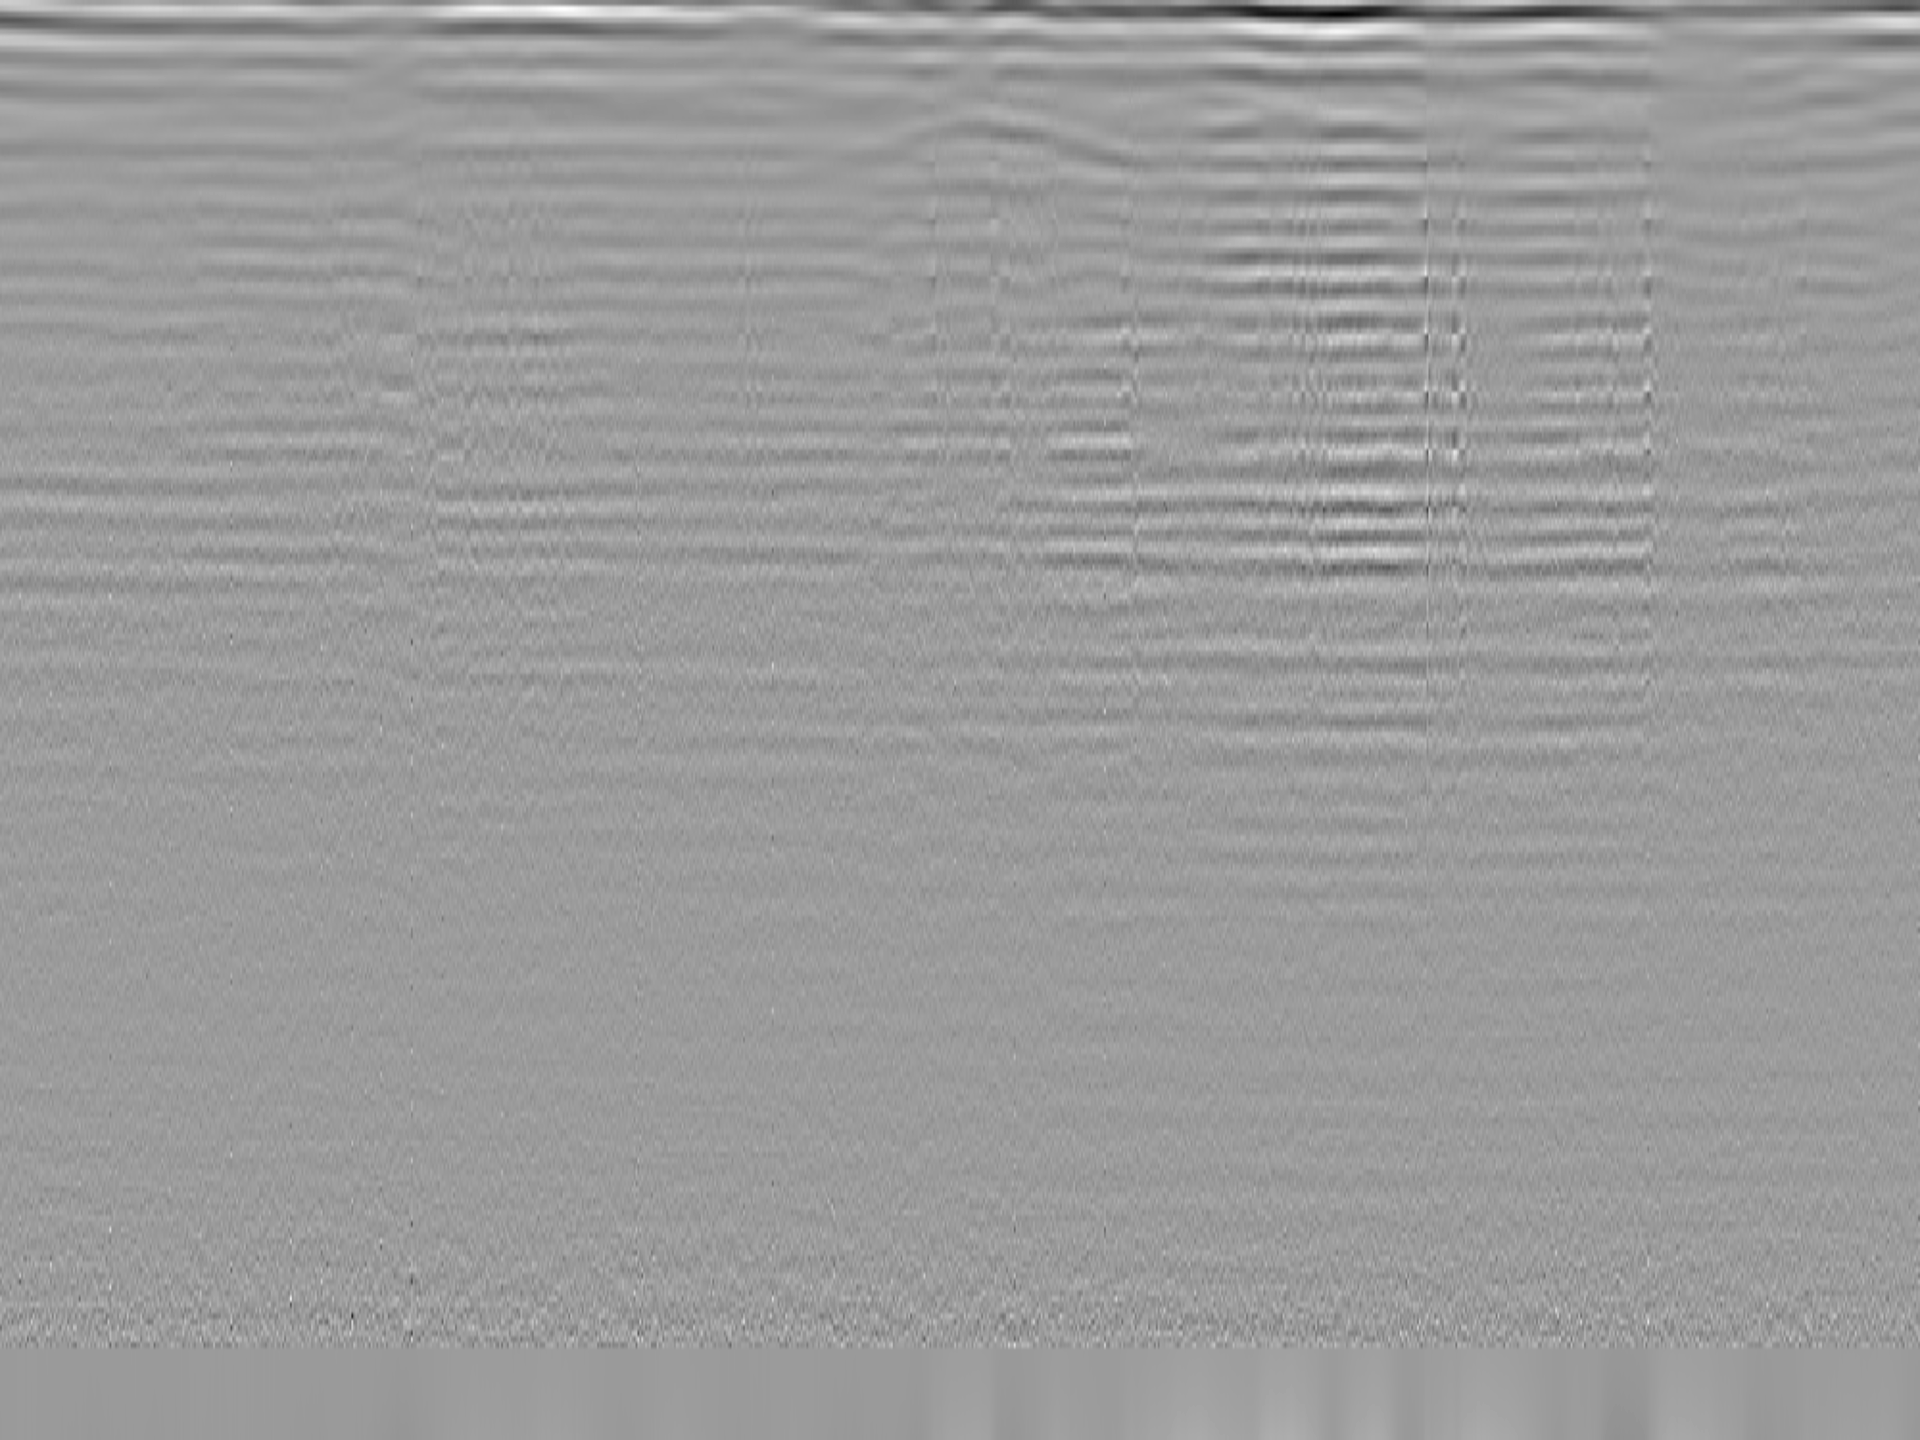Tunnel: (847, 101, 1150, 165)
